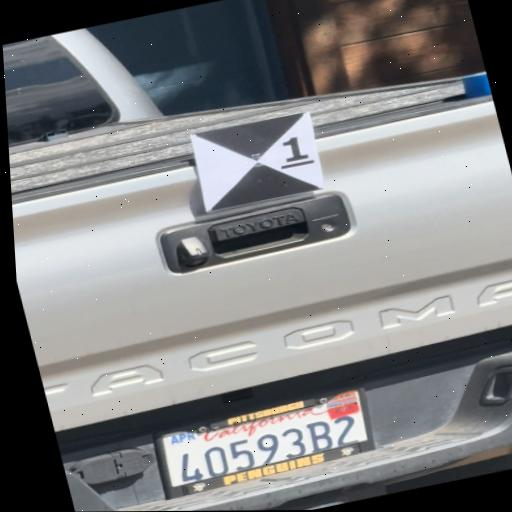target1: (191, 112, 326, 211)
